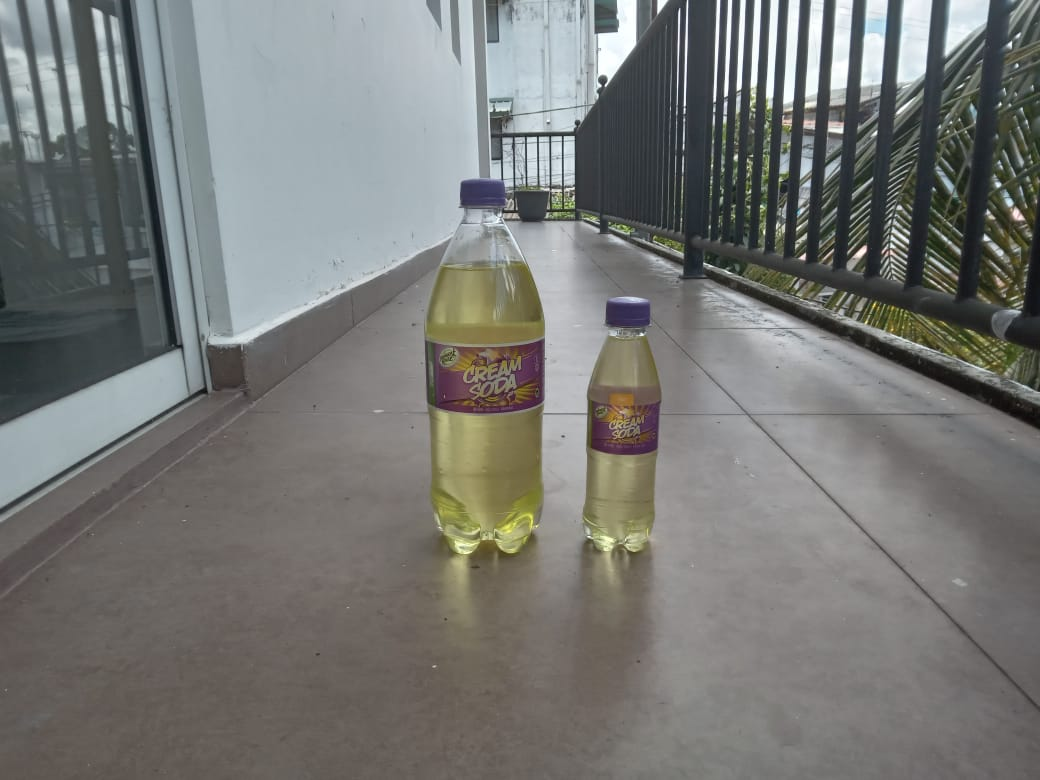M: (422, 178, 548, 557)
Xs: (582, 296, 659, 556)
